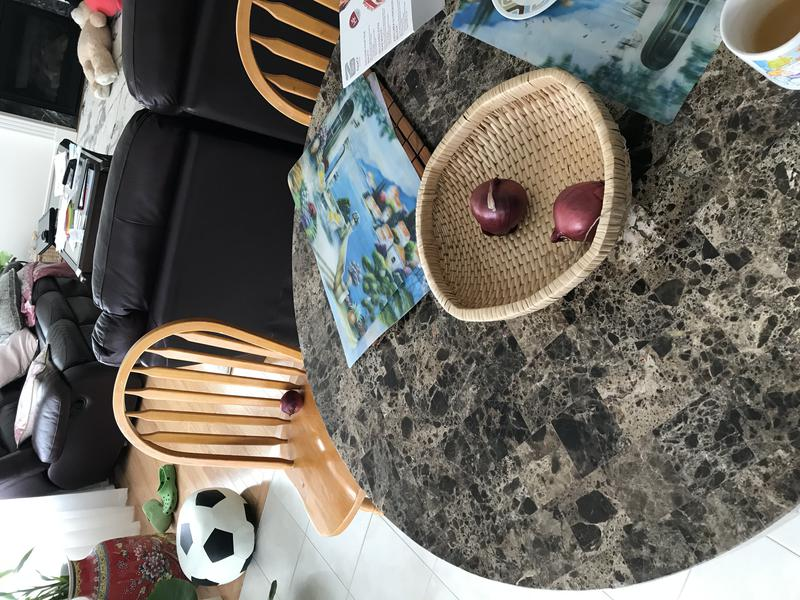purple_onion: (546, 175, 613, 245), (462, 171, 530, 238), (274, 386, 308, 421)
